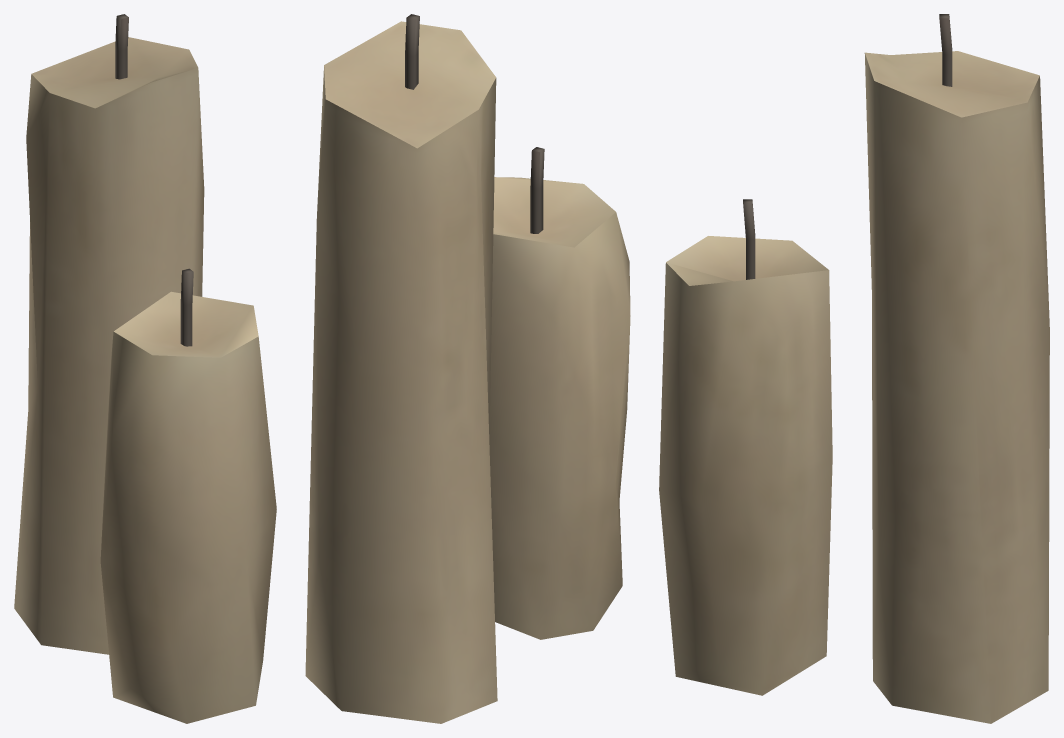
The model's file is SM_Candles_1.fbx.
3 renders of one model, left to right at view 1: azimuth 30°, elevation 25°; view 2: azimuth 150°, elevation 25°; view 3: azimuth 270°, elevation 25°, orthographic. The views are drawn at different scales.
Visible parts, largest first — view 1: SM_Candles_1_LOD0; view 2: SM_Candles_1_LOD0; view 3: SM_Candles_1_LOD0.
Part boxes in pixels (x1,y1,x2,y2): SM_Candles_1_LOD0: (14,14,276,723); SM_Candles_1_LOD0: (305,14,630,723); SM_Candles_1_LOD0: (659,14,1049,723).
Bounding box in the file's own units: 8.83 × 14.97 × 28.17.
